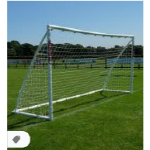goals: (13, 24, 138, 122)
